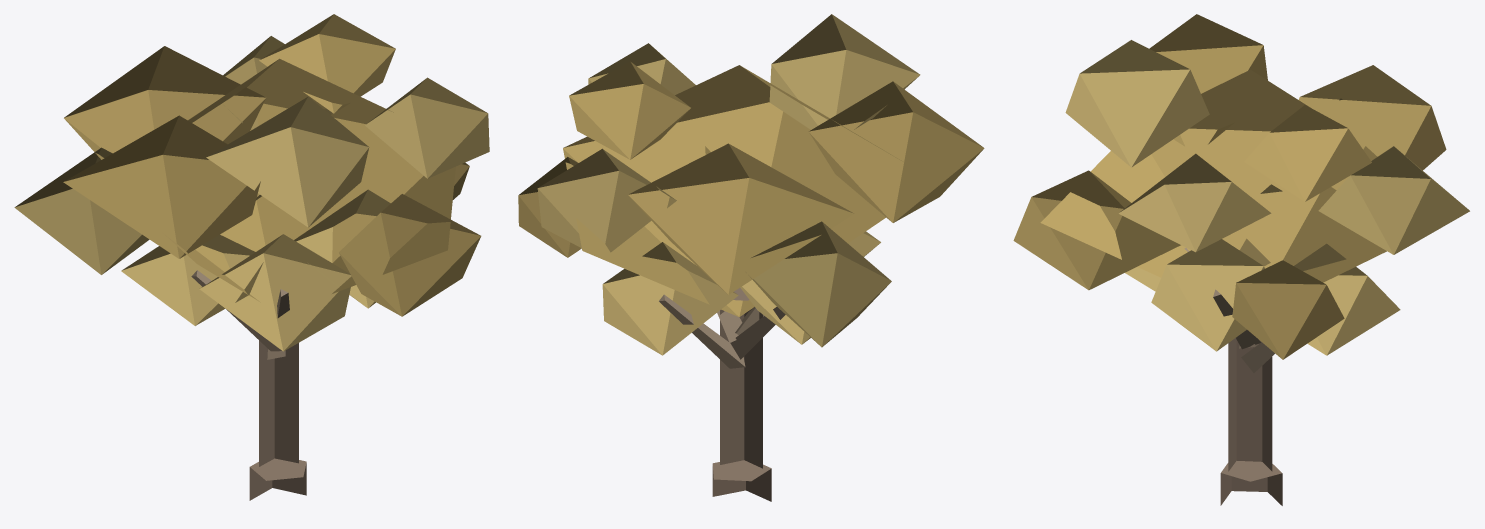
Rendered from tree.temp.plane_maple__autumn.glb.
3 renders of one model, left to right at view 1: azimuth 30°, elevation 25°; view 2: azimuth 150°, elevation 25°; view 3: azimuth 270°, elevation 25°, orthographic. The views are drawn at different scales.
Visible parts, largest first — view 1: tree.temp.plane_maple__autumn; view 2: tree.temp.plane_maple__autumn; view 3: tree.temp.plane_maple__autumn.
Part boxes in pixels (x1=…): tree.temp.plane_maple__autumn: x1=14, y1=14, x2=489, y2=500; tree.temp.plane_maple__autumn: x1=518, y1=14, x2=984, y2=501; tree.temp.plane_maple__autumn: x1=1013, y1=14, x2=1469, y2=505.
Size of the model in its own units: 10.23 by 10.76 by 9.97.
